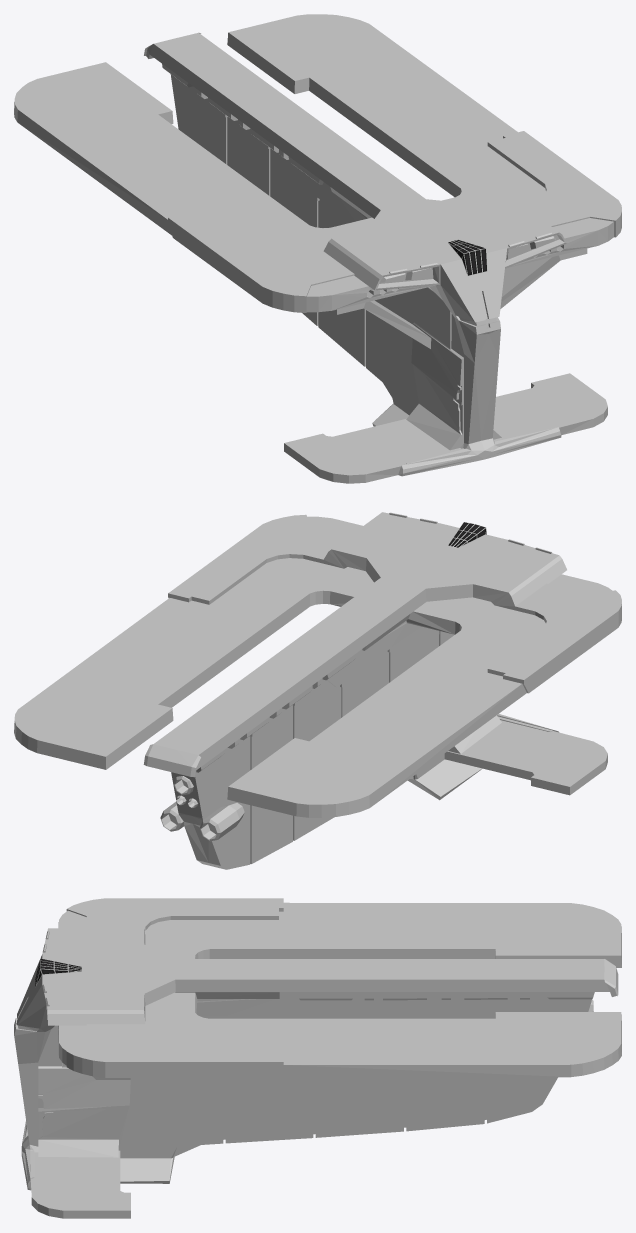
Rendered from merchant_cruiser_medium_l1.fbx.
The picture shows the model from 3 angles, top to bottom: view 1: azimuth 30°, elevation 25°; view 2: azimuth 150°, elevation 25°; view 3: azimuth 270°, elevation 25°; orthographic projection. The views are drawn at different scales.
Visible parts, largest first — view 1: mesh_node; view 2: mesh_node; view 3: mesh_node.
Boxes of the visible parts, box(x1,y1,x2,y2) form: mesh_node: box(14, 14, 621, 483); mesh_node: box(14, 512, 621, 869); mesh_node: box(14, 898, 621, 1218).
Bounding box in the file's own units: 63.65 × 37.25 × 99.84.
